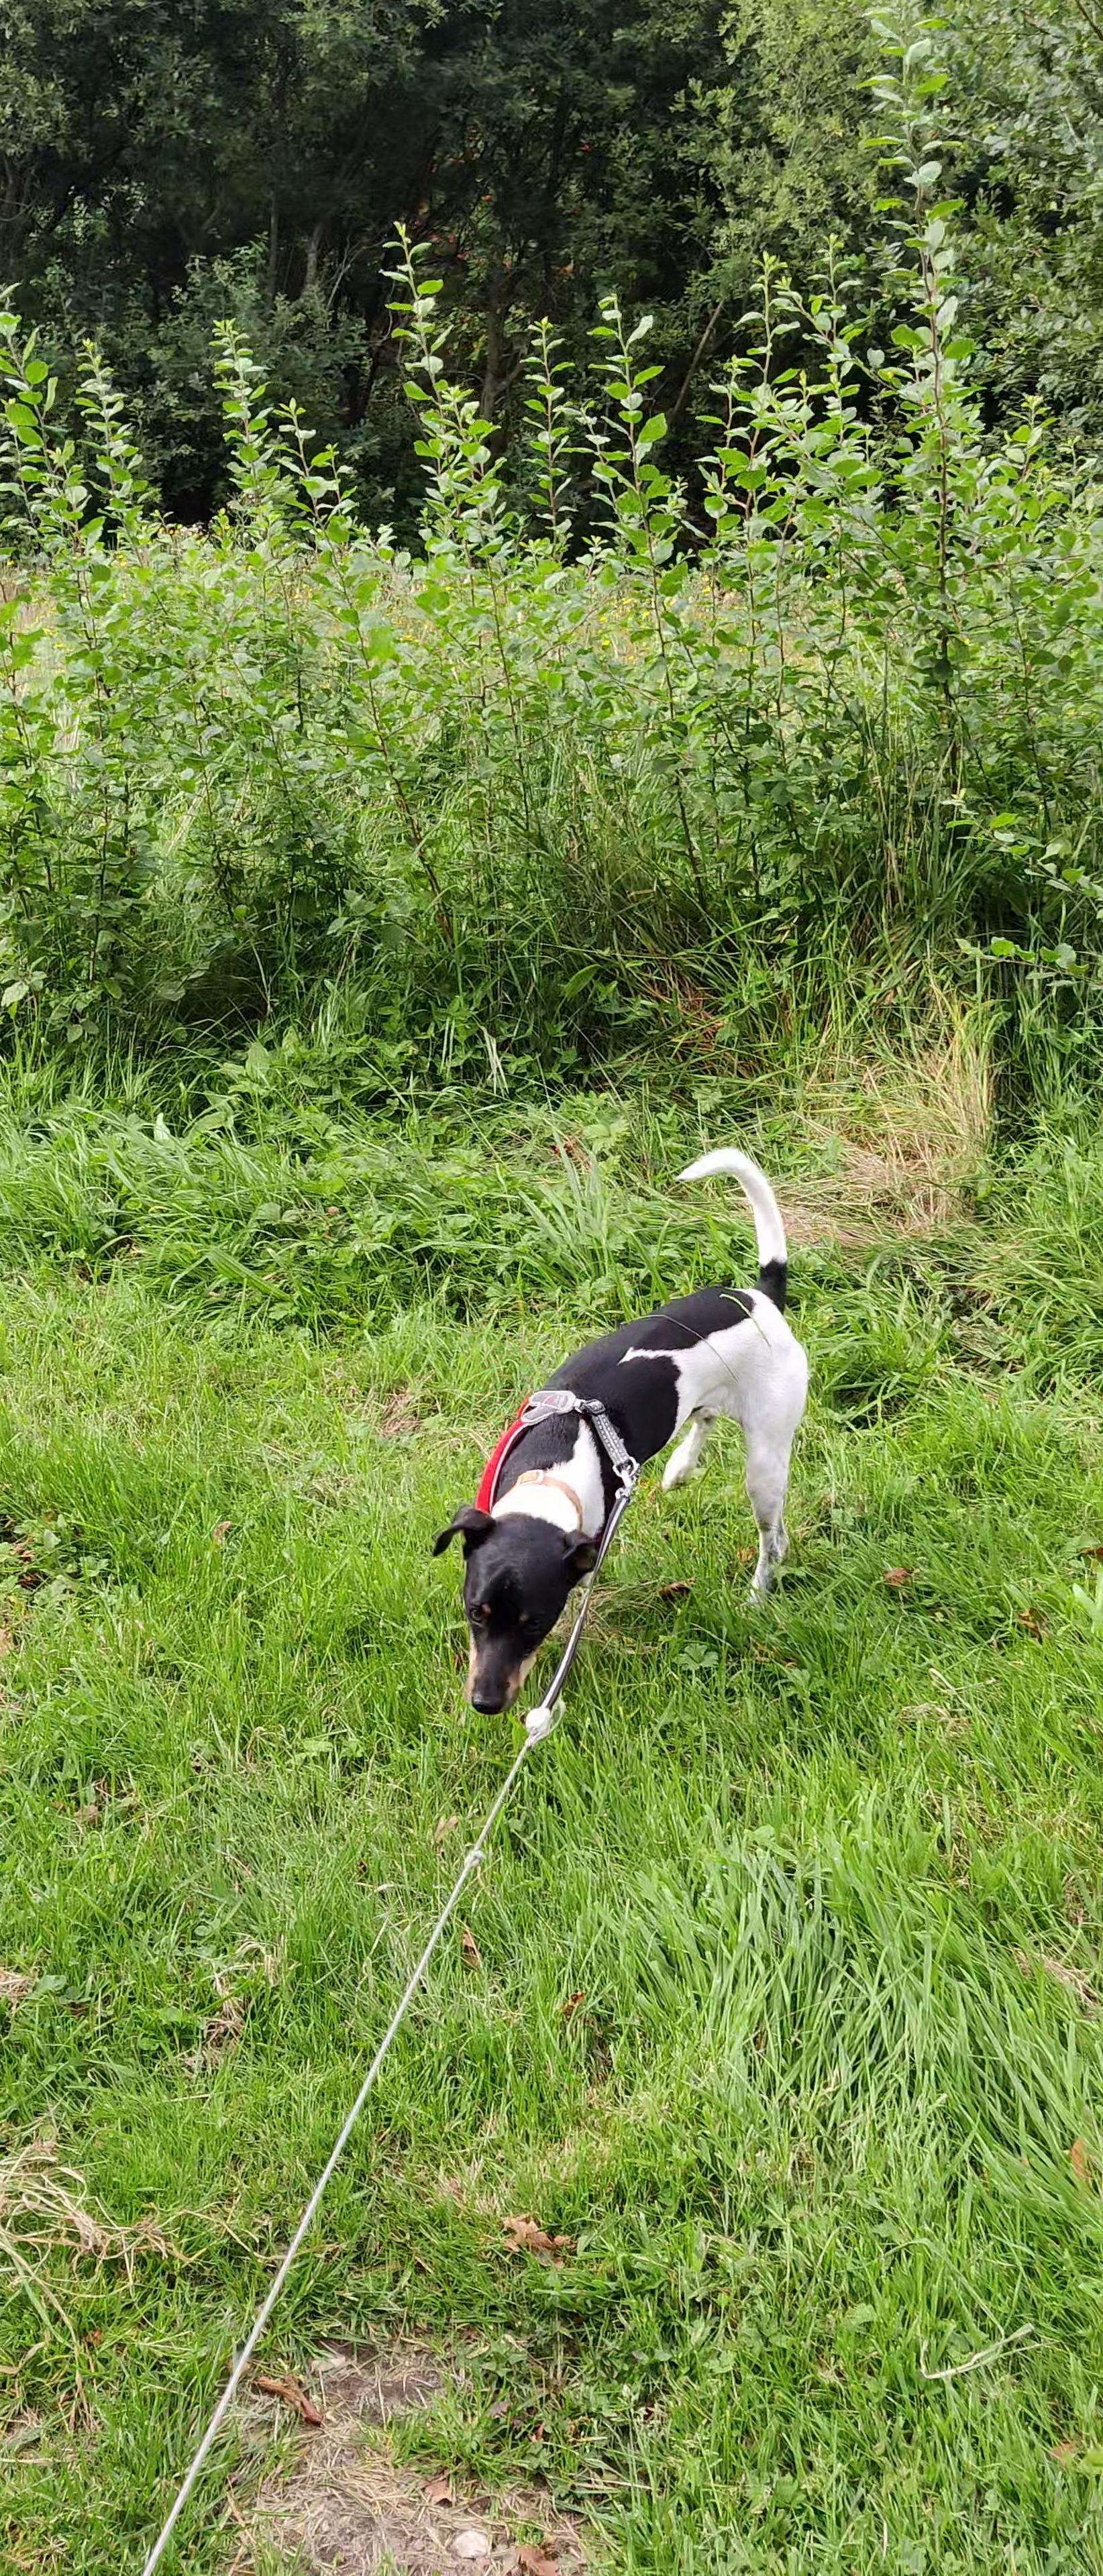Dog: (422, 1134, 819, 1735)
